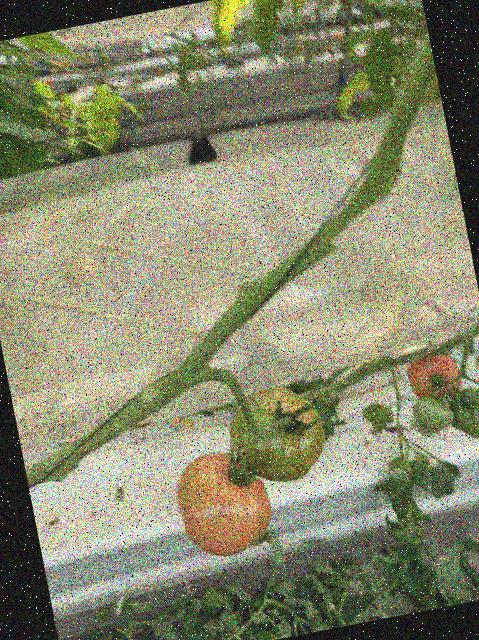b_green: (222, 378, 332, 491), (410, 390, 456, 435), (445, 384, 479, 443)
b_half_ripened: (168, 442, 279, 564), (404, 352, 465, 403)
